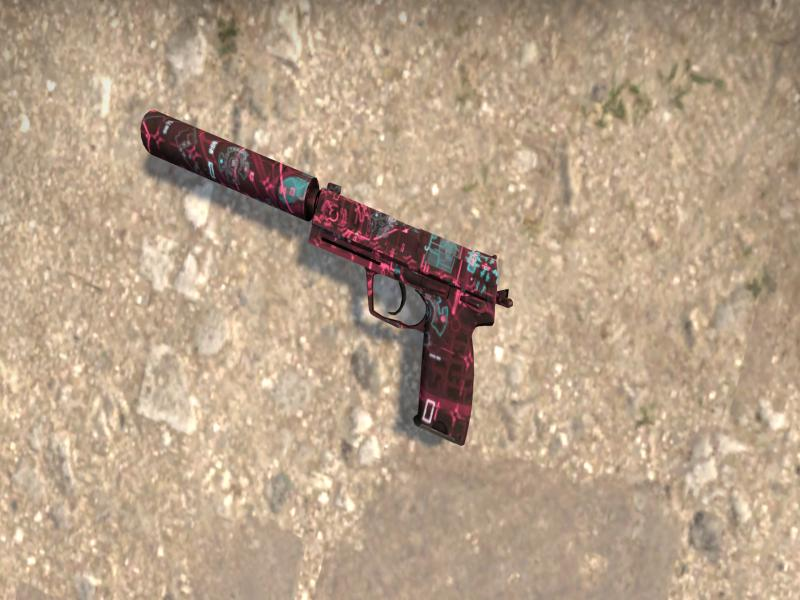USP: (140, 111, 512, 444)
